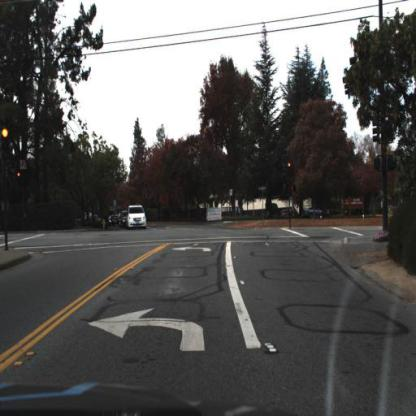car: (301, 200, 330, 220), (128, 205, 149, 231), (118, 212, 129, 228), (109, 212, 119, 226)
trafficLight-Red: (2, 112, 14, 159), (287, 161, 293, 184)
